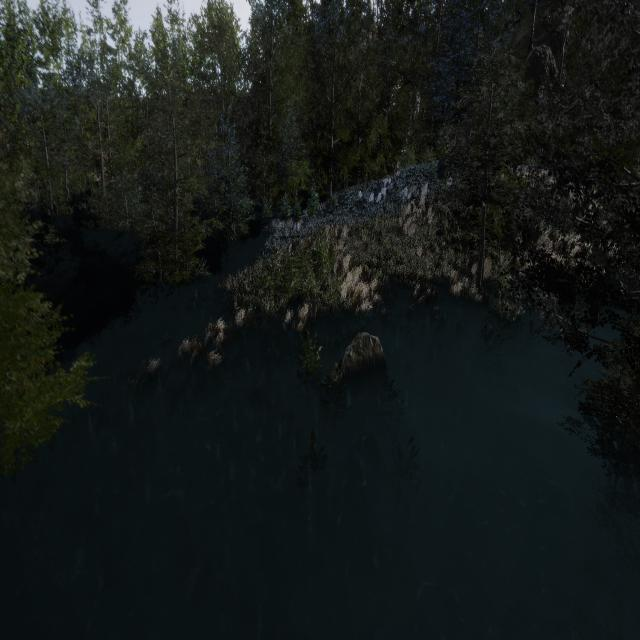Human: (303, 305, 324, 365)
